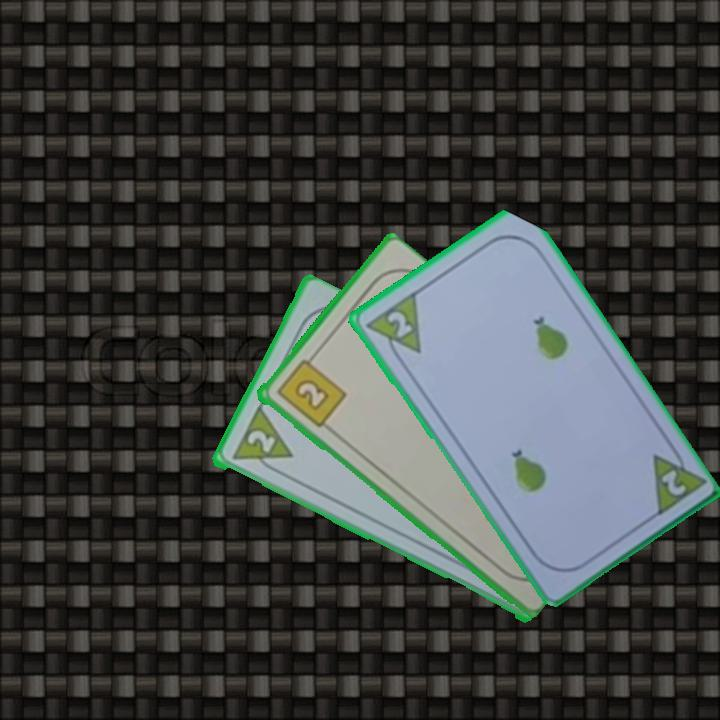2b: (272, 350, 349, 431)
2p: (361, 287, 424, 367), (227, 405, 295, 479), (657, 465, 689, 499)
